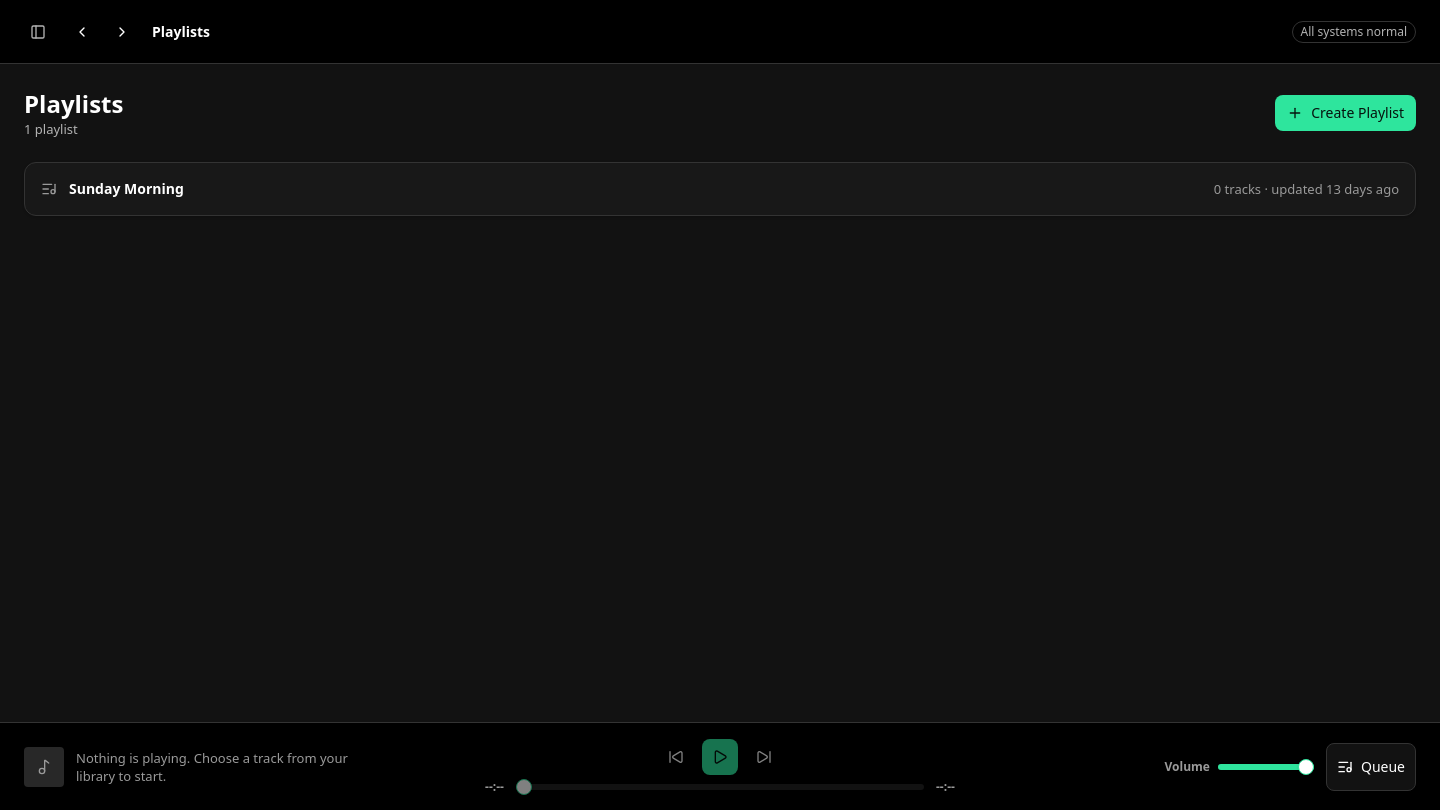
Test: Modal focus return › returns focus to the invoking control after the dialog closes
Click the button "Create Playlist" at (1346, 113), box [1275,95,1416,131]
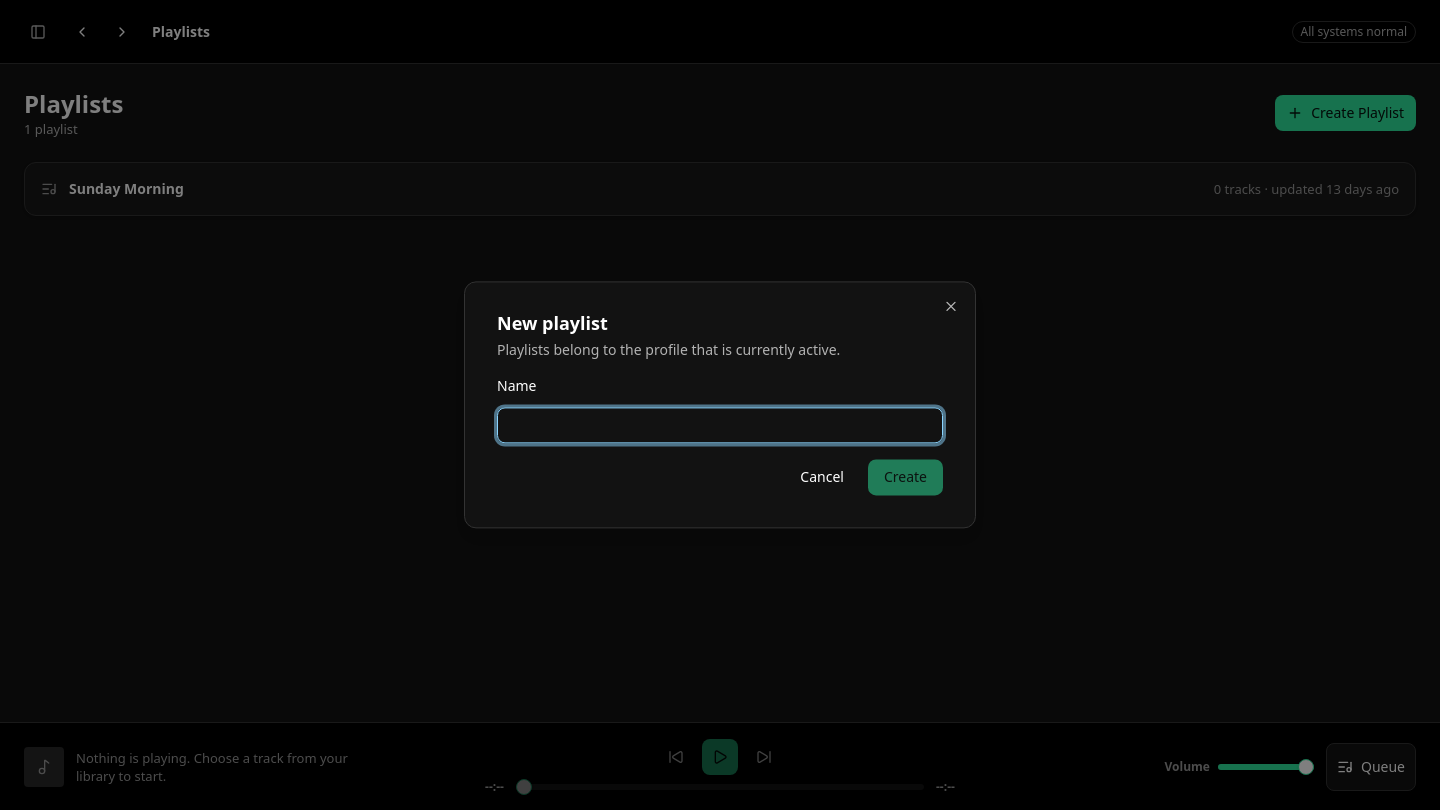
Expected: the dialog is shown, [464,281,976,529]
Press Escape
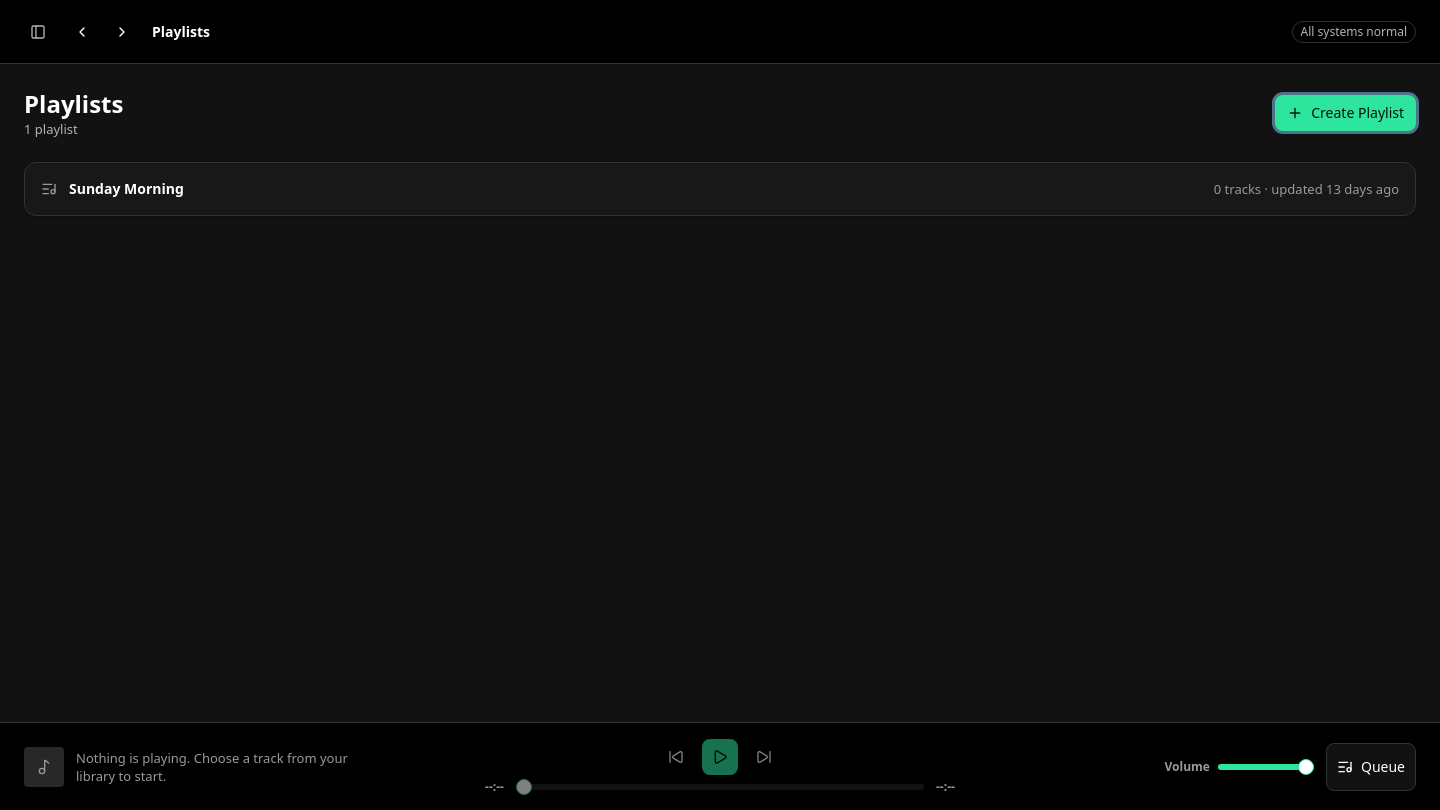
Expected: the dialog is gone
